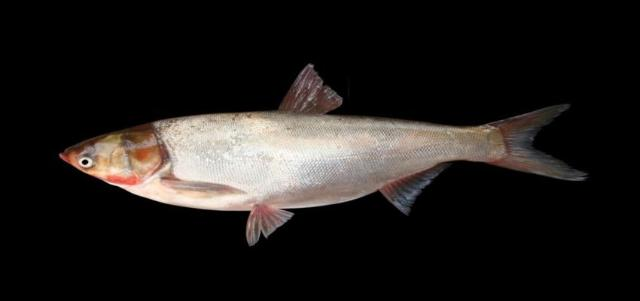Mulut: (54, 140, 74, 168)
Sirip Anal: (380, 155, 448, 216)
Sirip Dada: (160, 166, 250, 208)
Sirip Ekor: (484, 101, 598, 189)
Sirip Perut: (244, 195, 298, 247)
Sirip Punggung: (276, 55, 348, 119)
